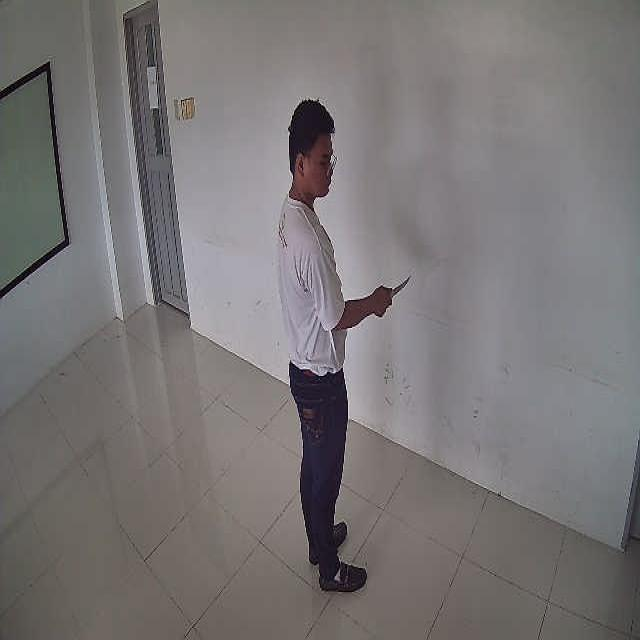knife: (392, 275, 412, 296)
